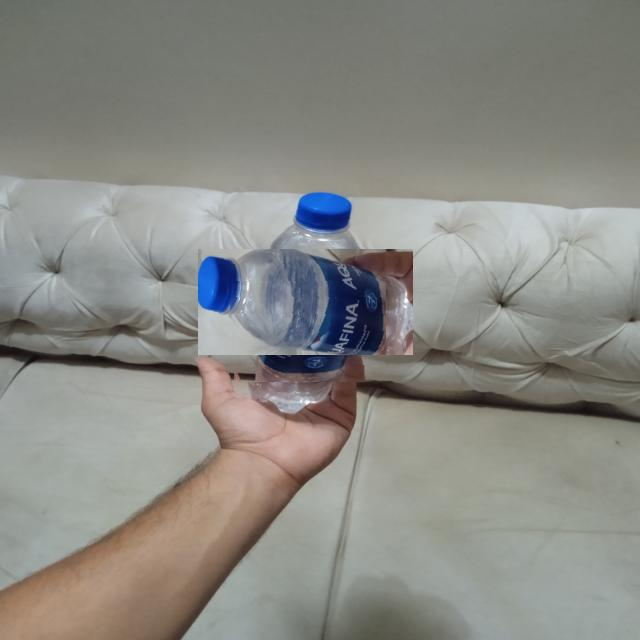Plastic: (225, 221, 386, 382)
